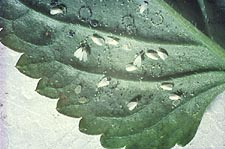whitefly: (95, 77, 109, 90), (90, 36, 104, 47), (127, 98, 139, 110), (155, 49, 168, 60), (105, 37, 119, 47), (144, 51, 158, 61), (133, 53, 142, 68), (73, 46, 82, 60), (139, 2, 148, 15), (80, 49, 88, 63), (160, 82, 173, 90), (125, 64, 137, 72), (168, 94, 181, 101)
